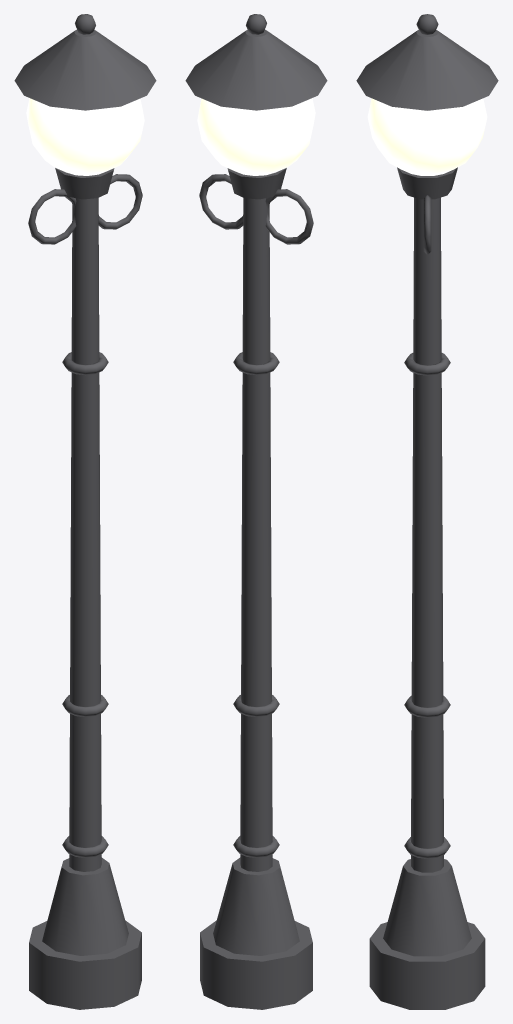
Rendered from StreetLamp.glb.
The picture shows the model from 3 angles, left to right: view 1: azimuth 30°, elevation 25°; view 2: azimuth 150°, elevation 25°; view 3: azimuth 270°, elevation 25°; orthographic projection.
Parts seen in each view (by area): view 1: StreetLamp_cyl.002, StreetLamp_cyl.004, StreetLamp_sphere, StreetLamp_cyl, StreetLamp_cyl.001, StreetLamp_cyl.003, StreetLamp_torus.003, StreetLamp_torus.004, StreetLamp_torus.002, StreetLamp_torus.001, StreetLamp_torus, StreetLamp_sphere.001; view 2: StreetLamp_cyl.002, StreetLamp_cyl.004, StreetLamp_sphere, StreetLamp_cyl, StreetLamp_cyl.001, StreetLamp_cyl.003, StreetLamp_torus.003, StreetLamp_torus.004, StreetLamp_torus.002, StreetLamp_torus.001, StreetLamp_torus, StreetLamp_sphere.001; view 3: StreetLamp_cyl.002, StreetLamp_cyl.004, StreetLamp_cyl, StreetLamp_sphere, StreetLamp_cyl.001, StreetLamp_cyl.003, StreetLamp_torus.002, StreetLamp_torus.001, StreetLamp_torus.004, StreetLamp_torus, StreetLamp_sphere.001.
Part boxes in pixels (<box>): StreetLamp_cyl.002: <box>69,198,101,871</box>; StreetLamp_cyl.004: <box>14,29,156,110</box>; StreetLamp_sphere: <box>26,98,144,175</box>; StreetLamp_cyl: <box>29,920,141,1009</box>; StreetLamp_cyl.001: <box>42,857,128,955</box>; StreetLamp_cyl.003: <box>55,168,114,199</box>; StreetLamp_torus.003: <box>28,189,76,244</box>; StreetLamp_torus.004: <box>98,174,142,229</box>; StreetLamp_torus.002: <box>62,352,108,375</box>; StreetLamp_torus.001: <box>62,695,108,716</box>; StreetLamp_torus: <box>62,836,108,857</box>; StreetLamp_sphere.001: <box>75,14,95,34</box>; StreetLamp_cyl.002: <box>240,198,272,871</box>; StreetLamp_cyl.004: <box>185,29,327,110</box>; StreetLamp_sphere: <box>197,98,315,175</box>; StreetLamp_cyl: <box>200,920,312,1009</box>; StreetLamp_cyl.001: <box>213,857,299,955</box>; StreetLamp_cyl.003: <box>227,168,286,199</box>; StreetLamp_torus.003: <box>265,189,313,244</box>; StreetLamp_torus.004: <box>199,174,243,229</box>; StreetLamp_torus.002: <box>233,352,279,375</box>; StreetLamp_torus.001: <box>233,695,279,716</box>; StreetLamp_torus: <box>233,836,279,857</box>; StreetLamp_sphere.001: <box>246,14,266,34</box>; StreetLamp_cyl.002: <box>411,197,443,872</box>; StreetLamp_cyl.004: <box>356,30,498,110</box>; StreetLamp_cyl: <box>369,922,485,1009</box>; StreetLamp_sphere: <box>367,98,487,175</box>; StreetLamp_cyl.001: <box>383,859,471,956</box>; StreetLamp_cyl.003: <box>397,167,457,199</box>; StreetLamp_torus.002: <box>404,353,450,375</box>; StreetLamp_torus.001: <box>404,695,450,717</box>; StreetLamp_torus.004: <box>423,195,431,254</box>; StreetLamp_torus: <box>404,837,450,858</box>; StreetLamp_sphere.001: <box>416,14,438,34</box>.
Bounding box in the file's own units: 0.64 × 4.83 × 0.64.
